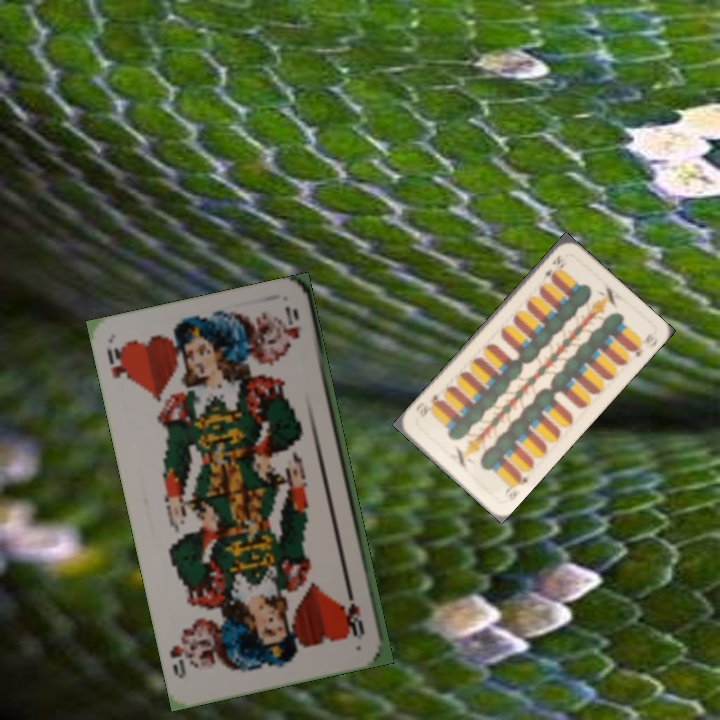E10: (500, 469, 532, 503), (537, 251, 566, 285)
HO: (103, 341, 134, 386), (343, 585, 367, 638)
